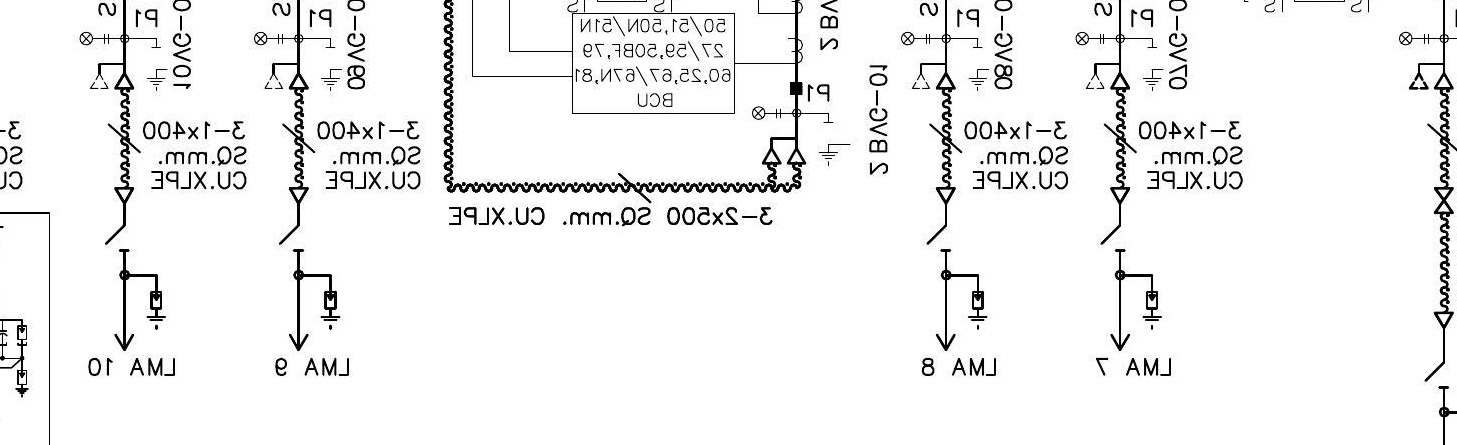22_ds_la_out: (1100, 224, 1163, 352), (926, 224, 989, 352), (278, 224, 341, 352), (104, 224, 167, 352)
22_gs: (818, 120, 850, 166), (320, 46, 344, 92), (1141, 46, 1165, 91), (146, 46, 170, 91), (968, 46, 991, 92)
22_ll: (1074, 30, 1105, 46), (1398, 31, 1430, 46), (900, 31, 932, 46), (751, 106, 782, 121), (253, 31, 284, 46), (79, 31, 110, 46)
terminator_double: (761, 136, 808, 165)
terminator_single: (287, 185, 310, 205), (1433, 310, 1455, 330), (1109, 186, 1132, 205), (113, 186, 135, 205), (935, 186, 957, 205)
terminator_splicing_kits: (1433, 187, 1455, 215)
terminator_w_future: (89, 61, 136, 91), (1408, 62, 1455, 91), (1084, 61, 1131, 90), (910, 62, 957, 91), (263, 62, 310, 91)
